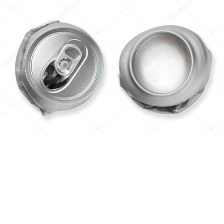can: (9, 12, 109, 122), (113, 25, 215, 118)
